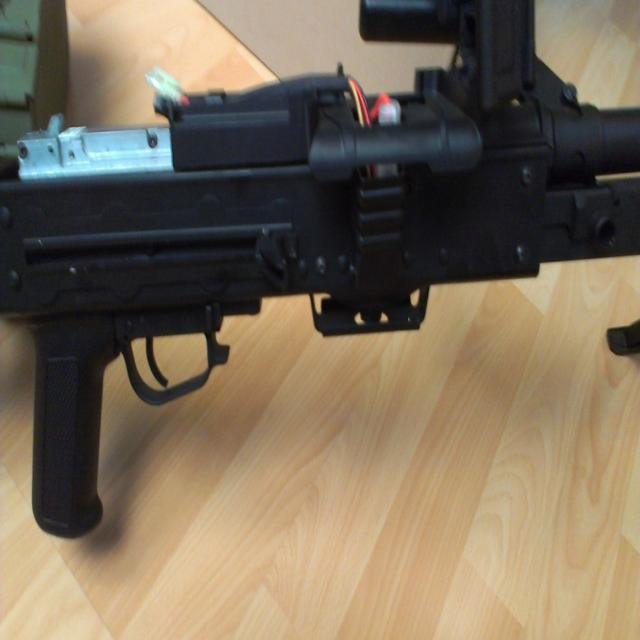firearm: (3, 0, 639, 539)
